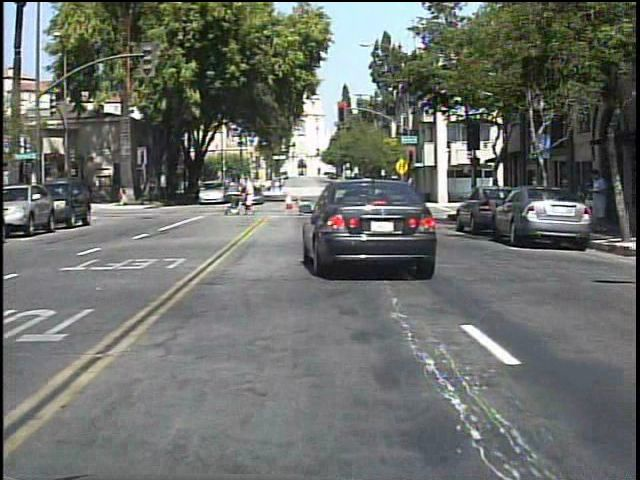person: (590, 162, 611, 237), (243, 176, 264, 216), (120, 183, 134, 209), (151, 178, 152, 207)
